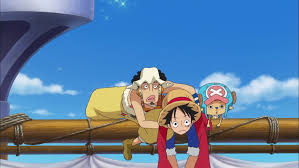chopper: (197, 81, 237, 118)
luffy: (158, 90, 202, 135)
